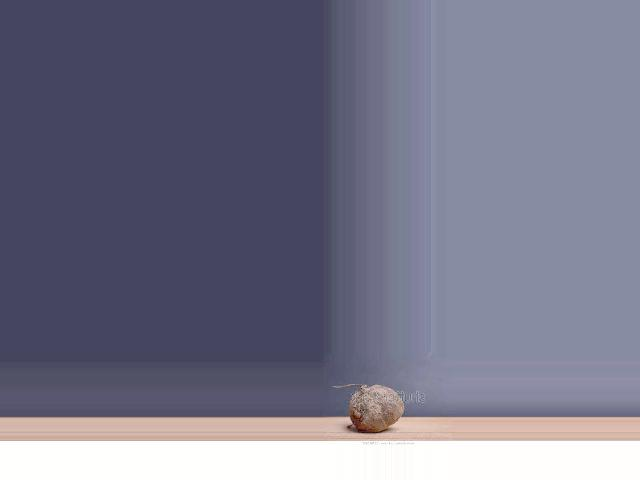beet: (331, 384, 403, 432)
